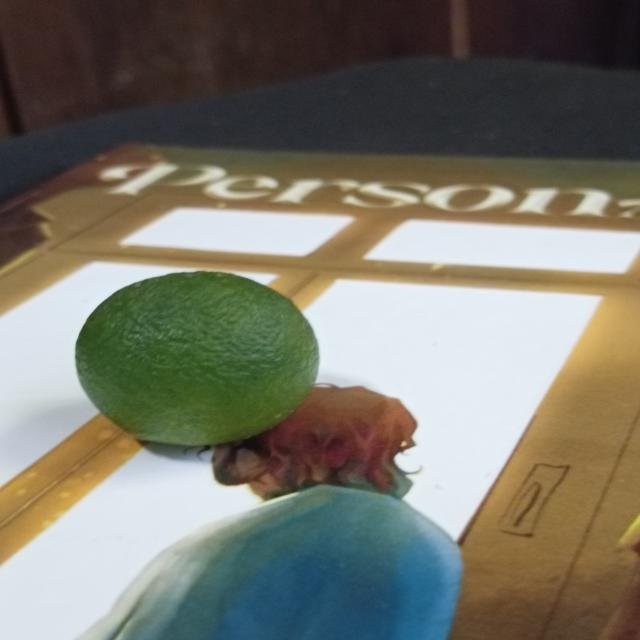heathy: (68, 271, 327, 455)
